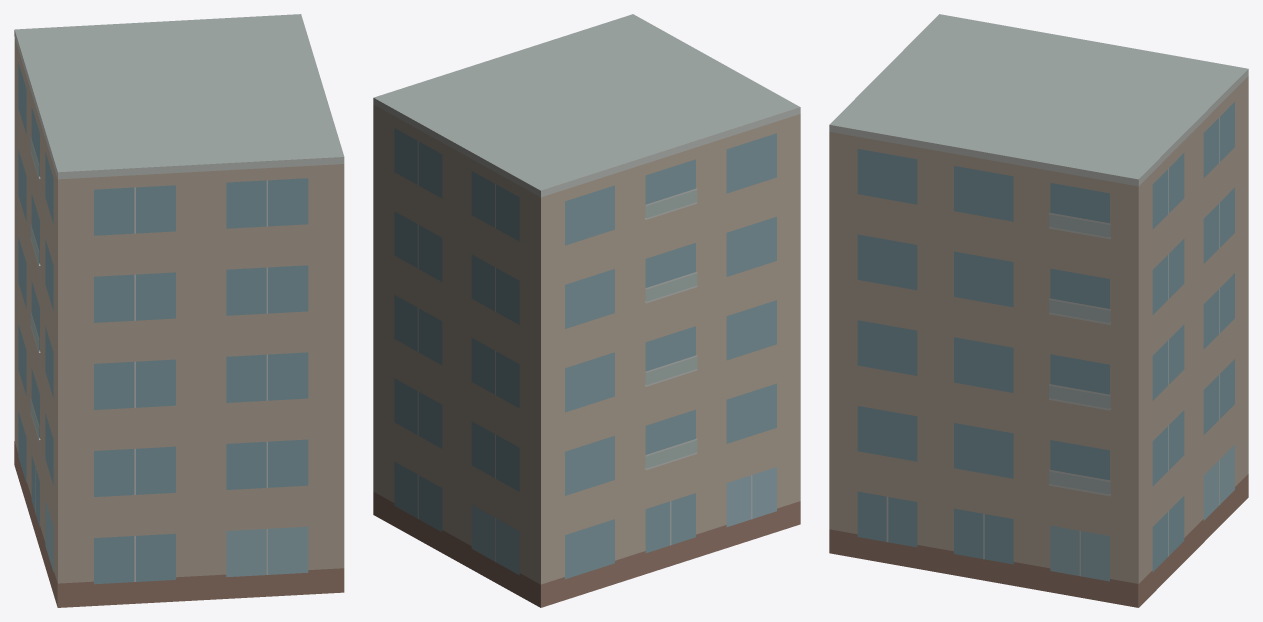
Rendered from survey-upis-32565988.glb.
3 renders of one model, left to right at view 1: azimuth 30°, elevation 25°; view 2: azimuth 150°, elevation 25°; view 3: azimuth 270°, elevation 25°, orthographic. The views are drawn at different scales.
Parts seen in each view (by area): view 1: survey-upis-32565988.tmp; view 2: survey-upis-32565988.tmp; view 3: survey-upis-32565988.tmp.
Part boxes in pixels (left/top/right/bottom): survey-upis-32565988.tmp: left=14, top=14, right=344, bottom=607; survey-upis-32565988.tmp: left=373, top=14, right=800, bottom=607; survey-upis-32565988.tmp: left=829, top=14, right=1248, bottom=607.
Bounding box in the file's own units: 12.51 × 15.1 × 13.4.
